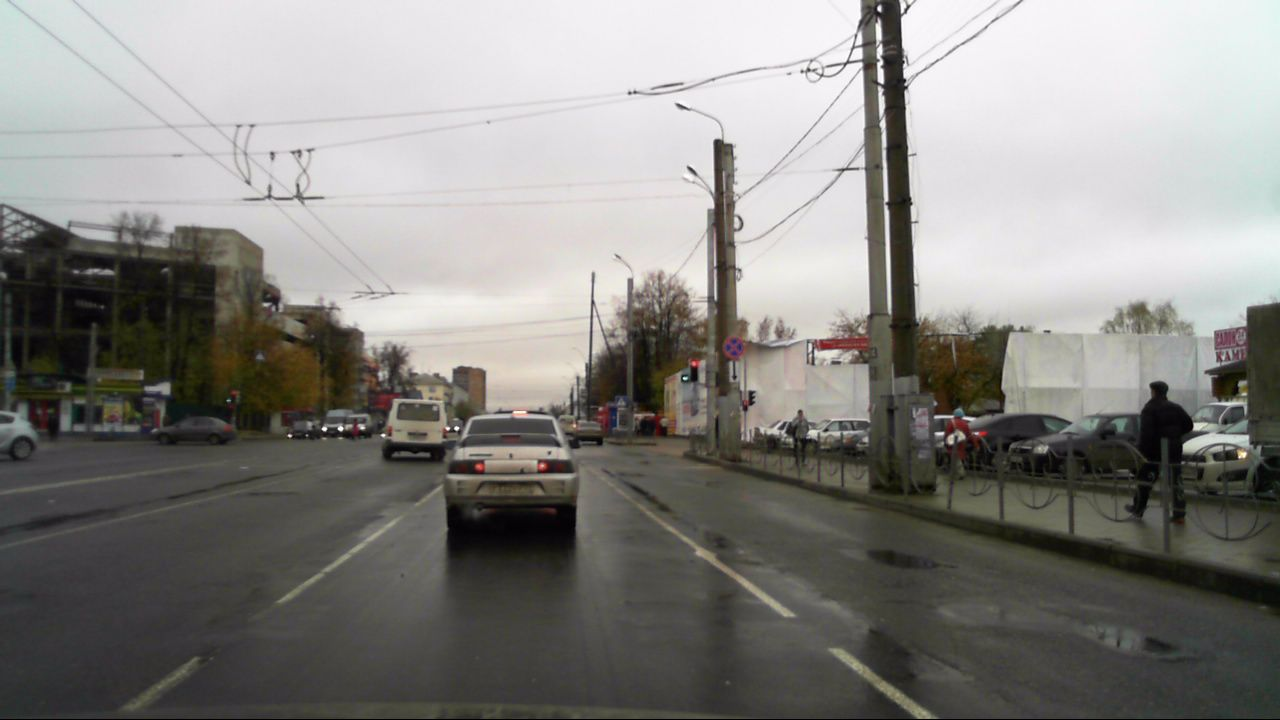No Parking: (721, 335, 744, 359)
